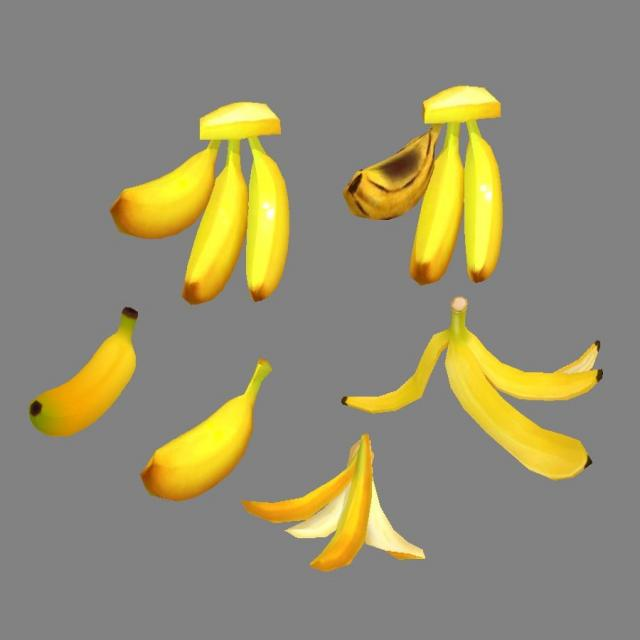Cascara de banano: (236, 436, 430, 573)
